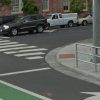Crosswalk: (2, 34, 48, 66)
